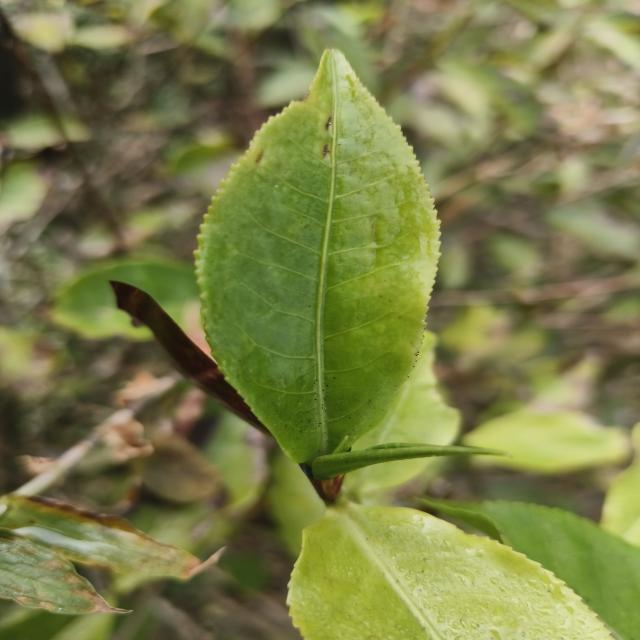Leaf: (196, 50, 439, 463), (287, 501, 612, 640), (415, 498, 640, 640), (353, 331, 461, 452), (51, 259, 199, 340), (463, 408, 629, 474), (346, 460, 432, 492)
